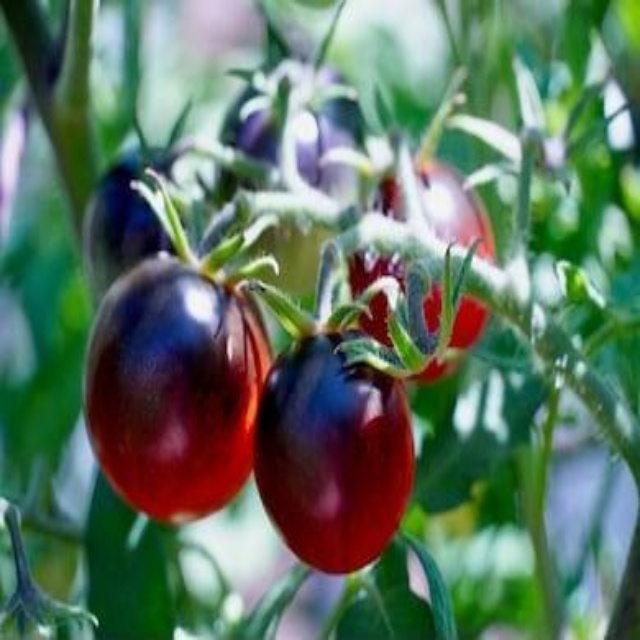tomato: (89, 265, 267, 516), (254, 332, 412, 573), (346, 138, 498, 376), (213, 41, 376, 245), (89, 135, 239, 331)
